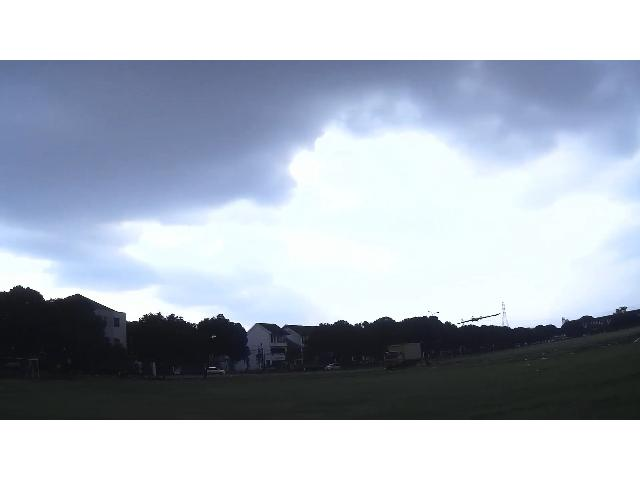Anti-Drone: (458, 313, 500, 323)
